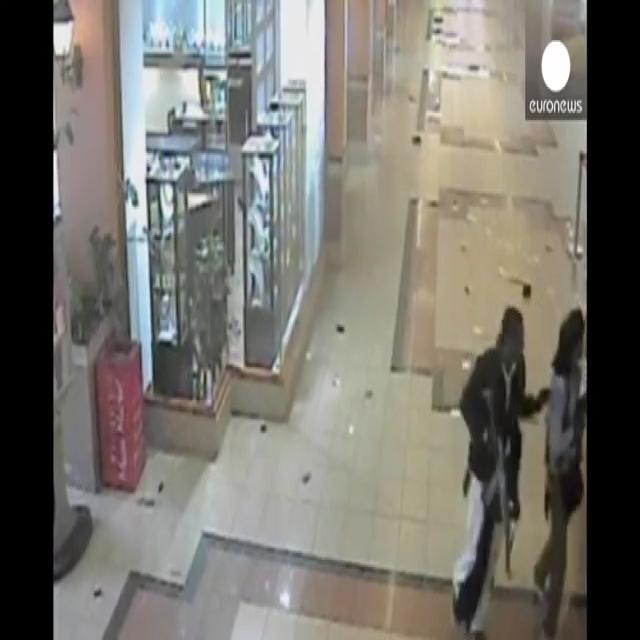Weapon: (479, 384, 589, 576)
